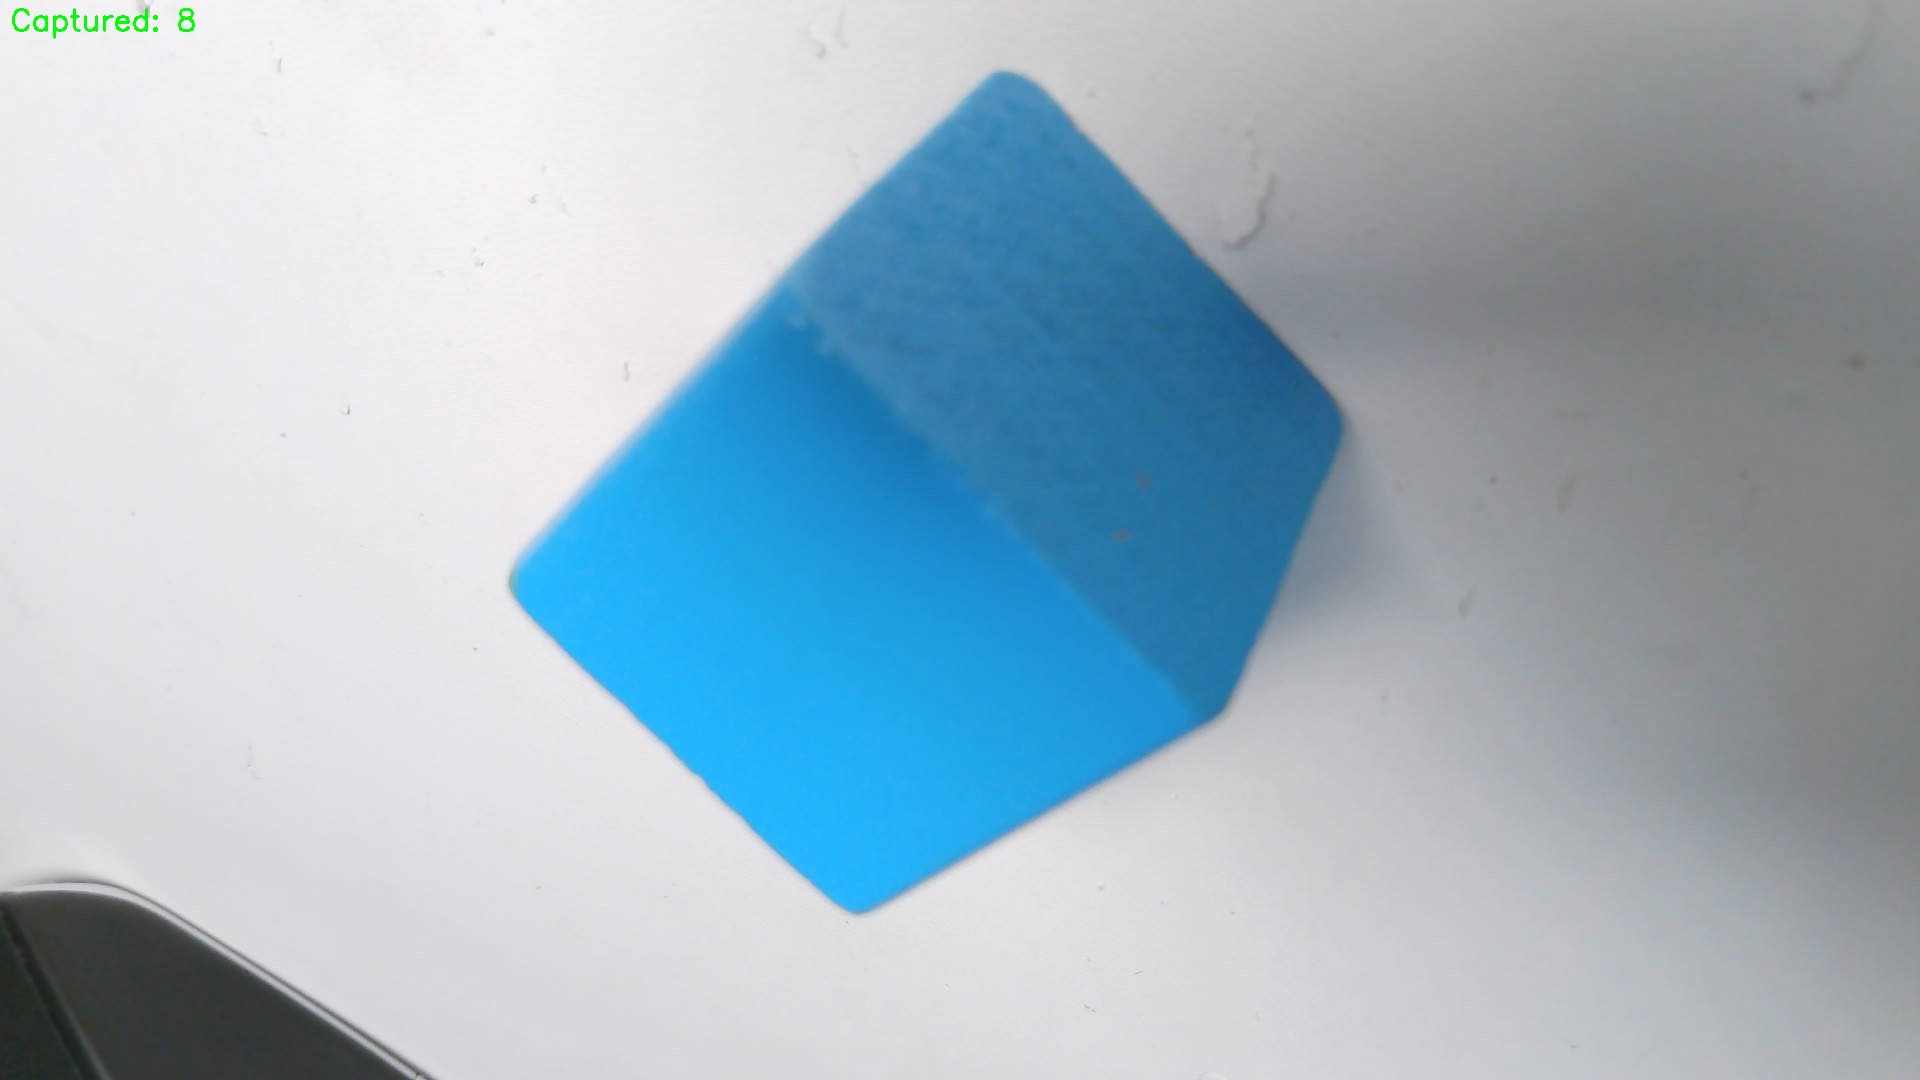blue: (512, 74, 1348, 916)
